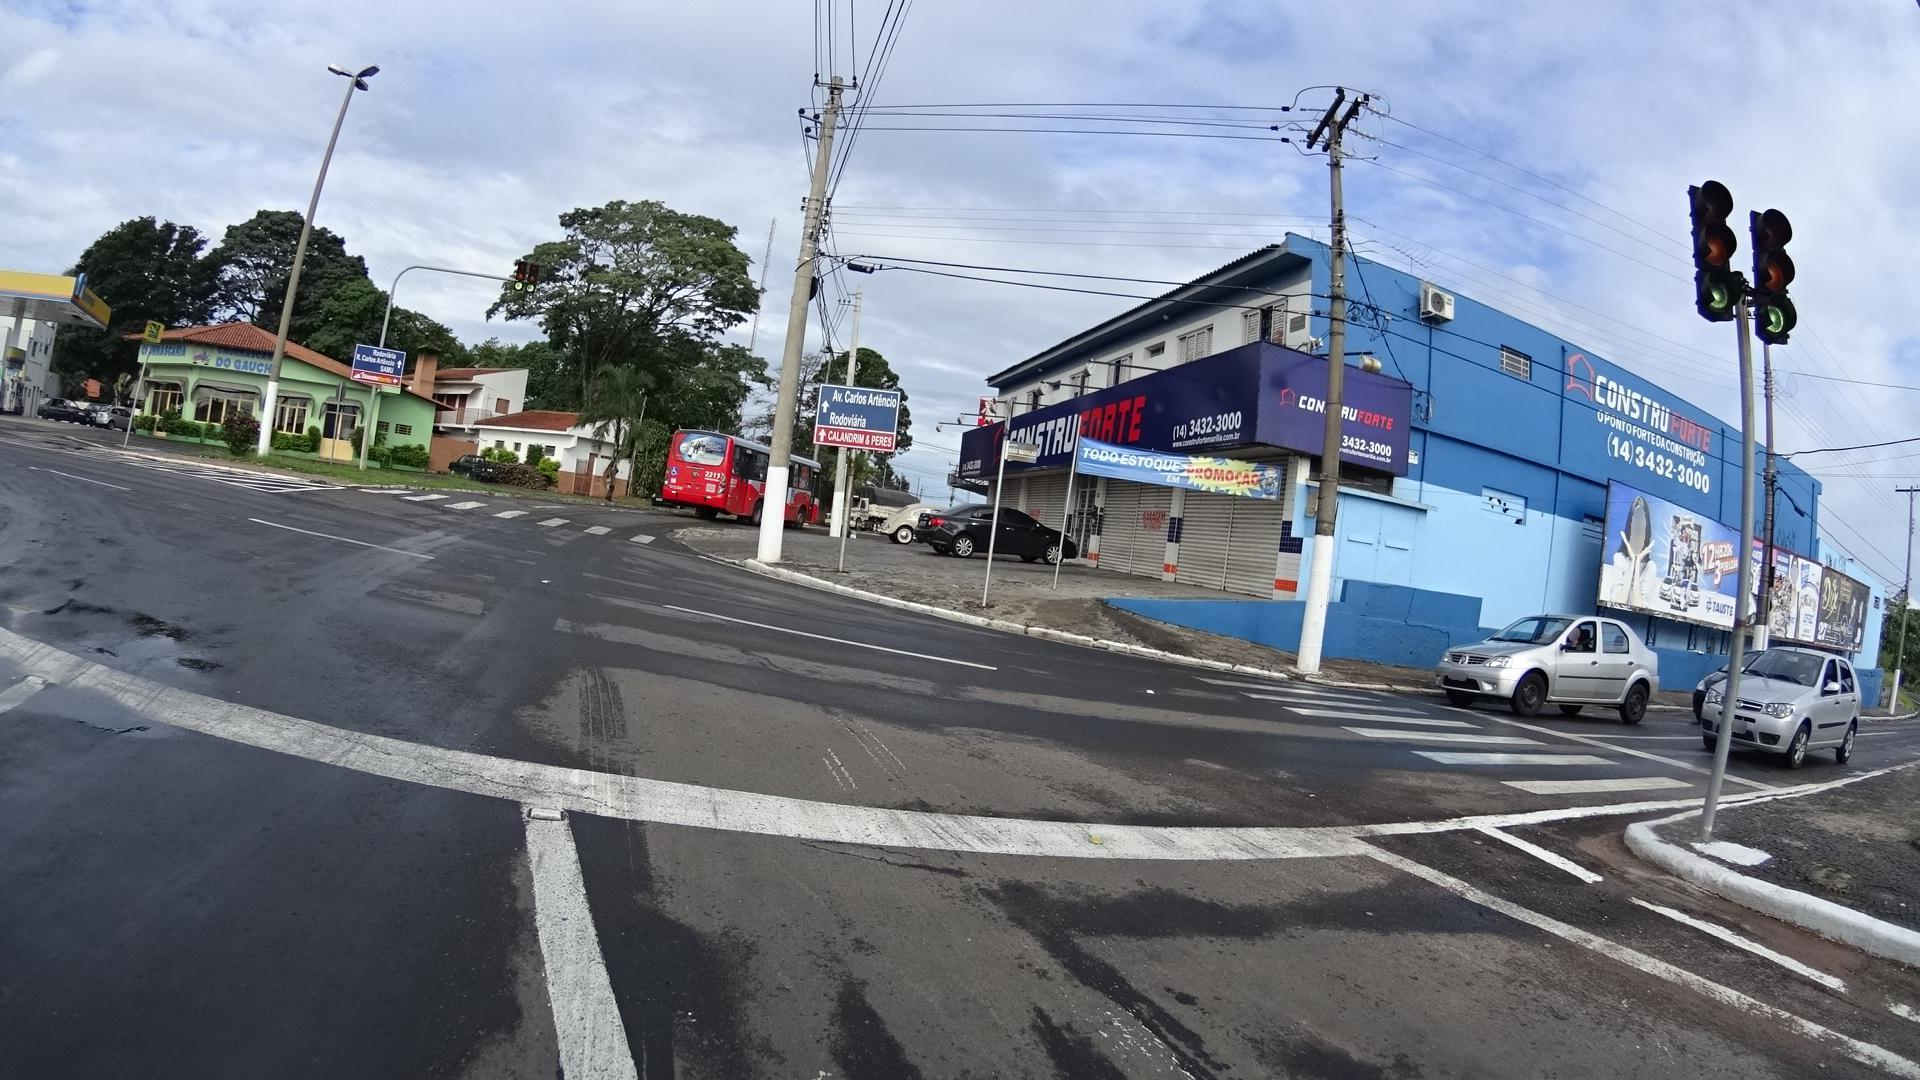vinyl banner: (1063, 415, 1294, 520)
